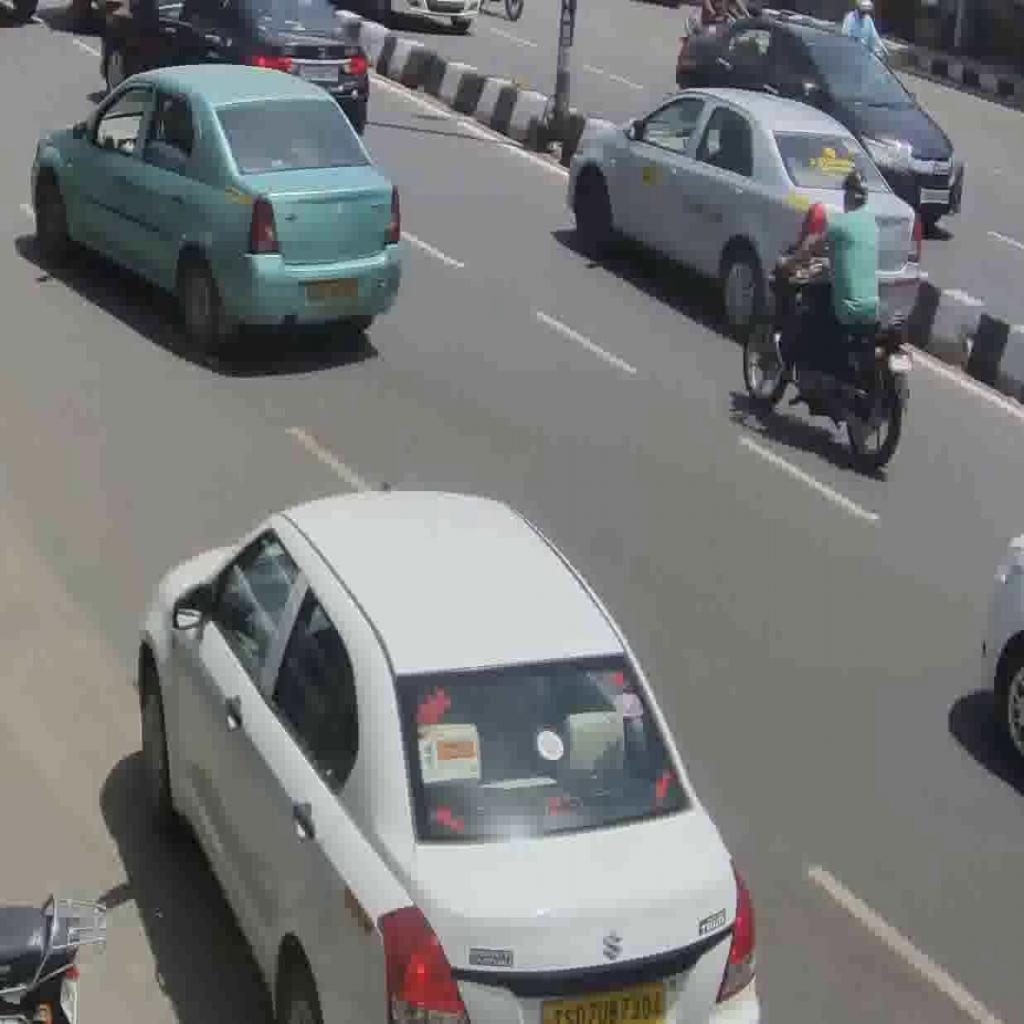helmet: (743, 238, 912, 472)
